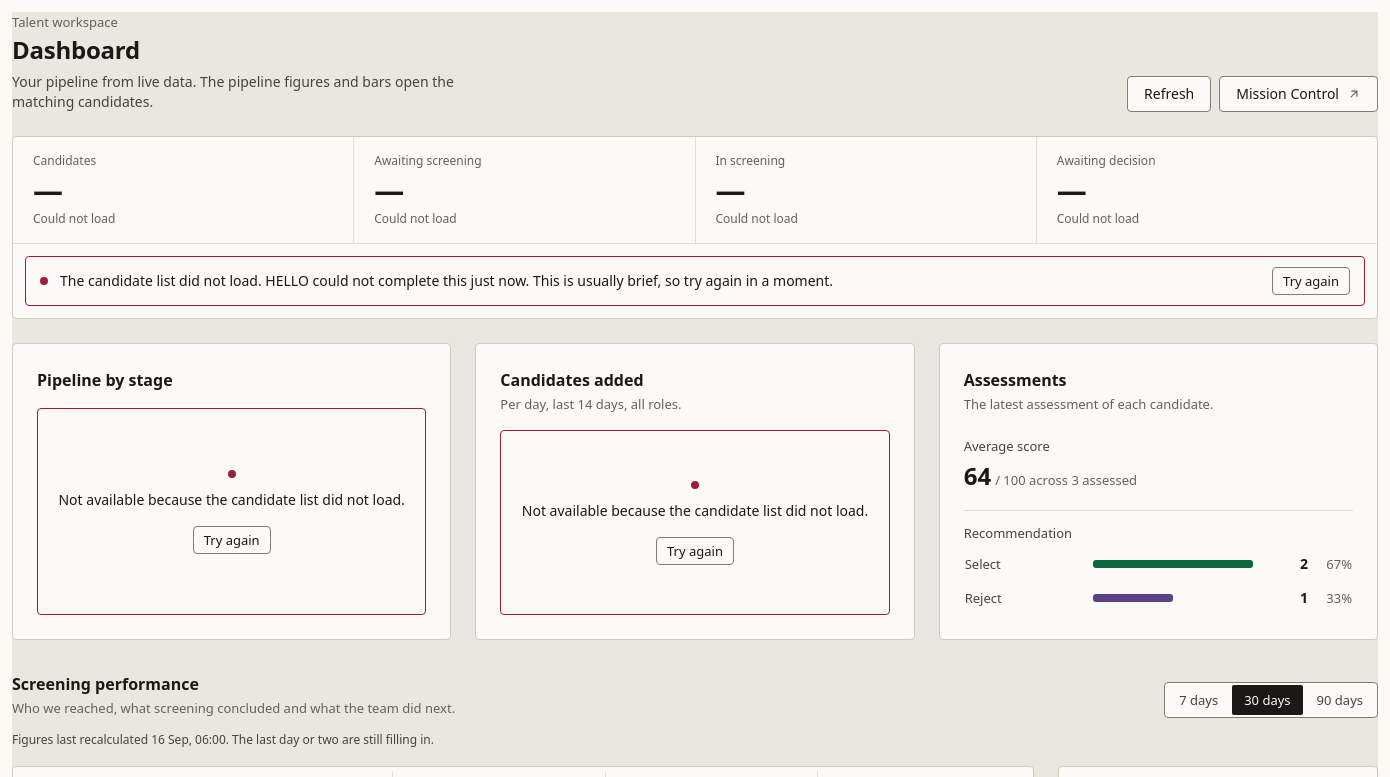
Scenario: DashboardPage › a read that fails stays in its own panels › Retry in Pipeline by stage reloads only the list
This screenshot has width=1390, height=777.
Expected: the message is shown, [25, 256, 1365, 306]
Expected: the link with aria-label "average assessment score 64" is shown, [964, 437, 1137, 492]
Click the button "Try again" below "Pipeline by stage". click: [232, 540]
box: [193, 526, 271, 554]
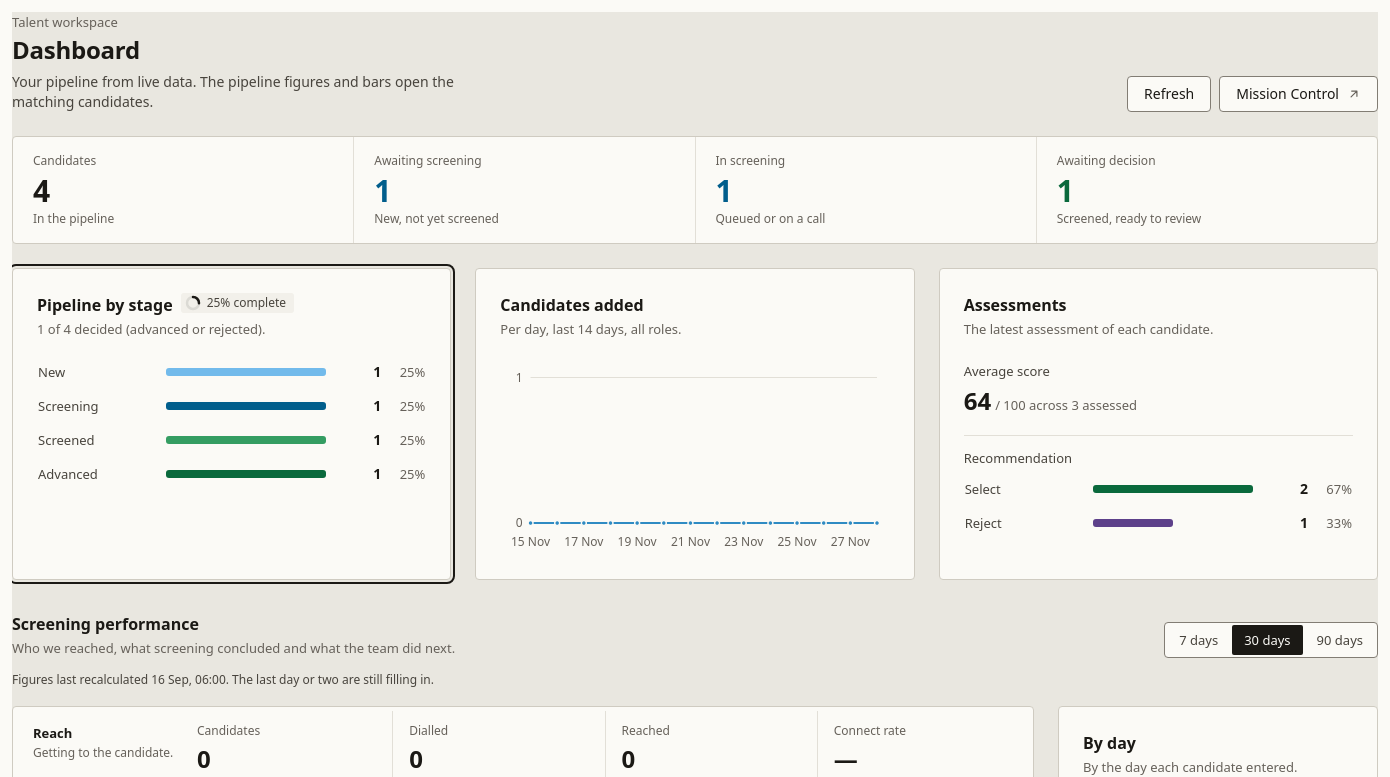
Expected: the link with aria-label "Candidates: 4" is shown, [33, 152, 114, 227]
Expected: the message is gone
Expected: the table named "Pipeline by stage data" is shown, [37, 355, 426, 491]
